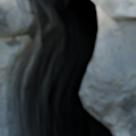broken_brick: (0, 0, 23, 39), (108, 0, 135, 20)
crack: (0, 0, 133, 135)
